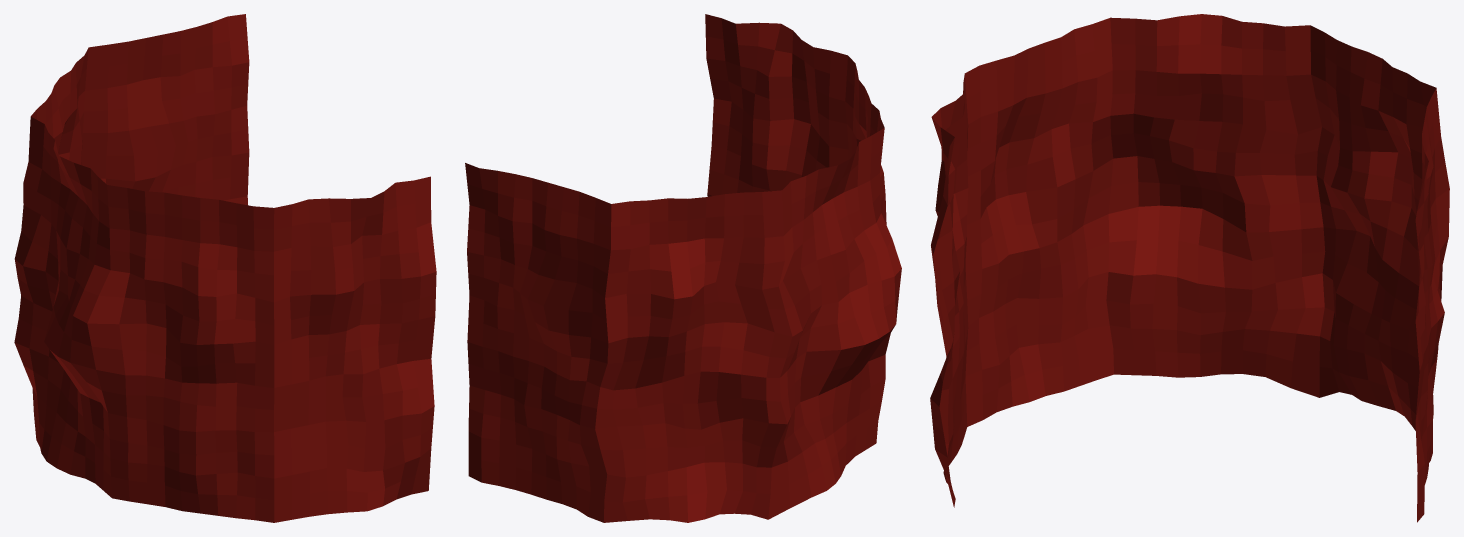
The model's file is env_bg_v003.fbx.
3 renders of one model, left to right at view 1: azimuth 30°, elevation 25°; view 2: azimuth 150°, elevation 25°; view 3: azimuth 270°, elevation 25°, orthographic. The views are drawn at different scales.
Visible parts, largest first — view 1: Cylinder; view 2: Cylinder; view 3: Cylinder.
Part boxes in pixels (<box>): Cylinder: <box>14,14,436,522</box>; Cylinder: <box>465,14,901,522</box>; Cylinder: <box>930,14,1449,522</box>.
Bounding box in the file's own units: 7400 × 7620 × 9737.
